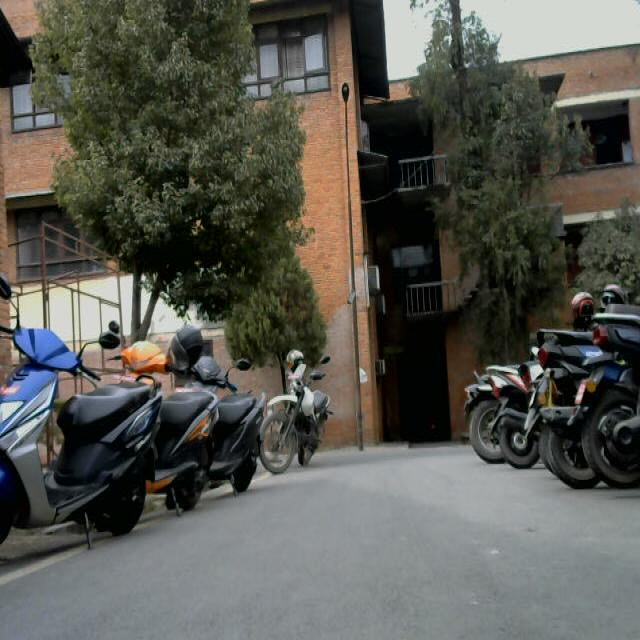Bike: (1, 309, 333, 532), (459, 284, 640, 504)
Pole: (336, 82, 369, 450)
Road: (126, 452, 604, 630)
trees: (35, 5, 310, 275), (408, 7, 559, 258), (259, 228, 331, 348)
